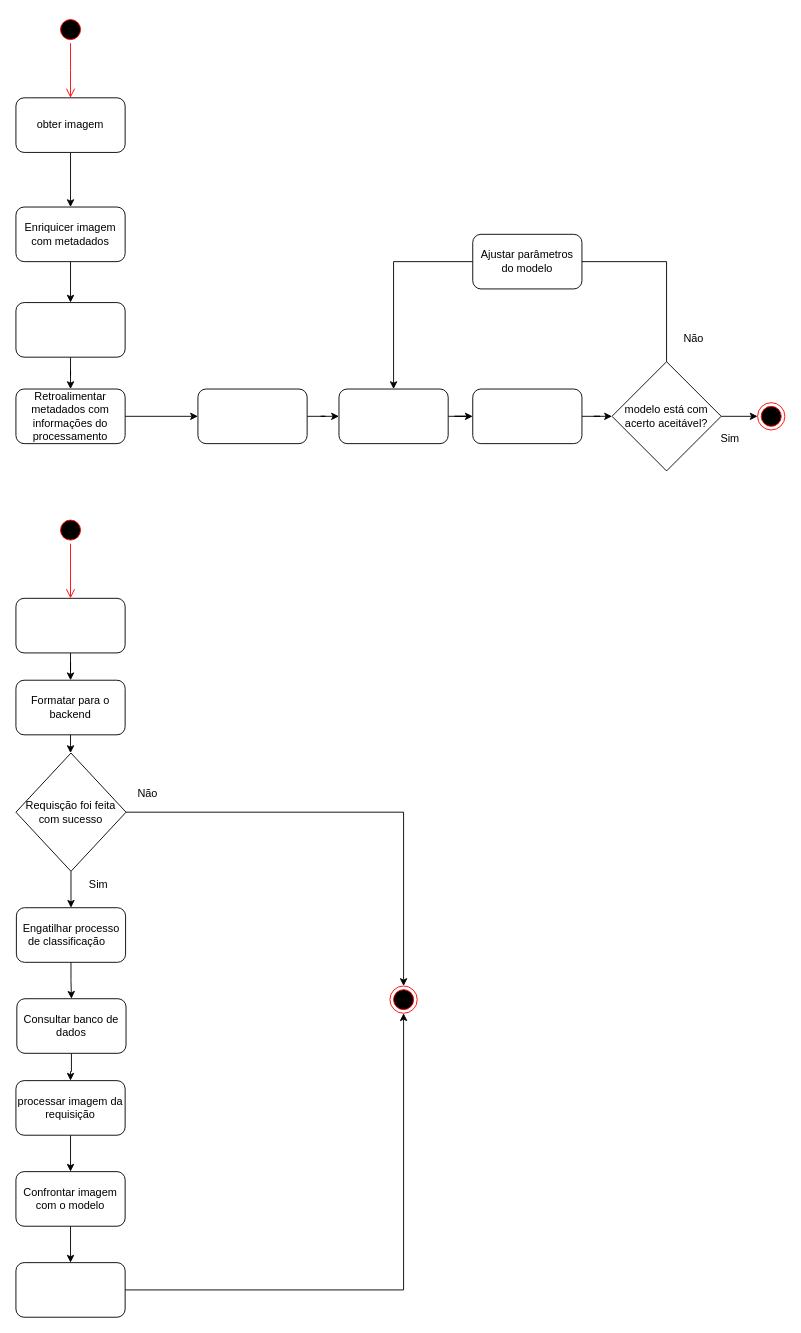
This 801x1333 diagram has some shape labels left out. Each missing label, with the centre of its shape:
"Classificar a imagem" goes at pixel 527 416.
"Começar aprendizado supervisionado" goes at pixel 393 416.
"Montar resposta da requisição" goes at pixel 70 1289.
"processar a imagem" goes at pixel 70 329.
"Realizar input da imagem a ser testada" goes at pixel 70 625.
"Salvar imagem e metadados no banco" goes at pixel 252 416.
